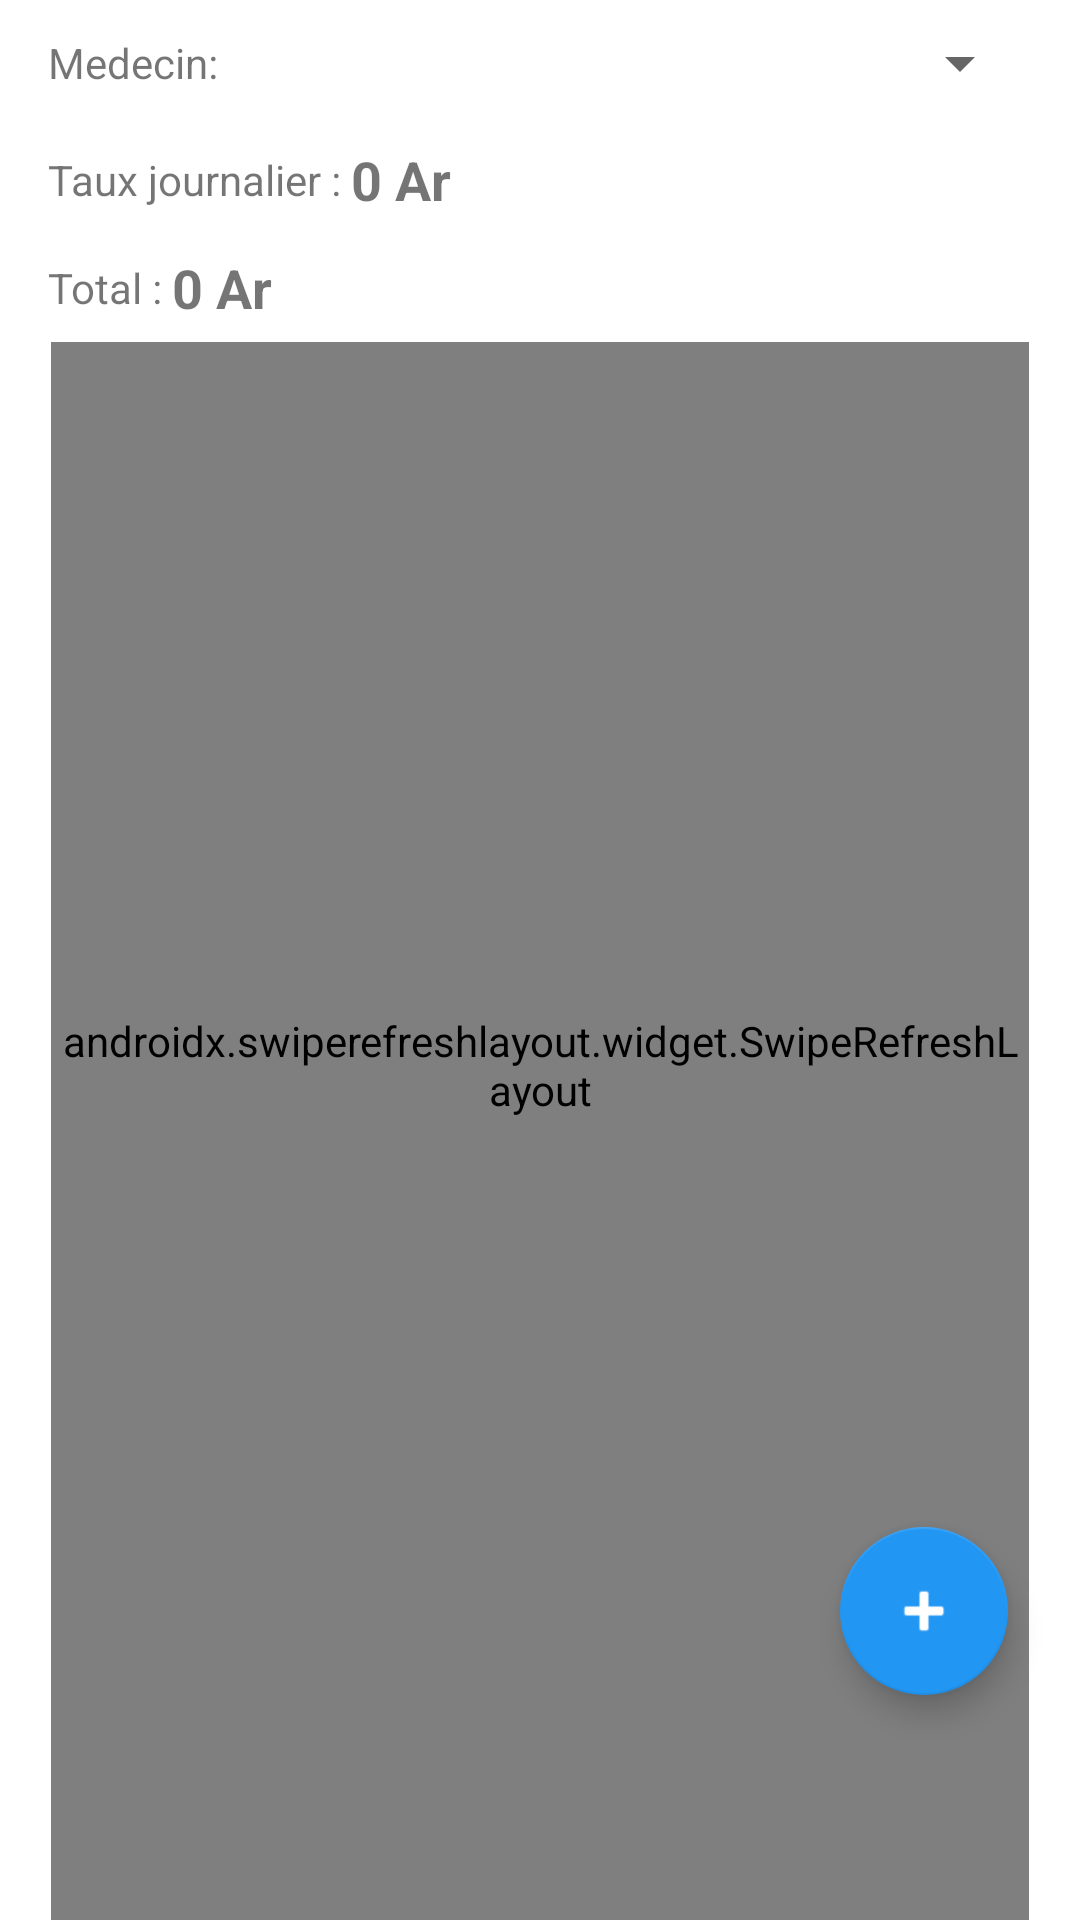

Icon click points for this 1080 x 1920 phone screenshot, format point (x, y):
add: point (924, 1611)
